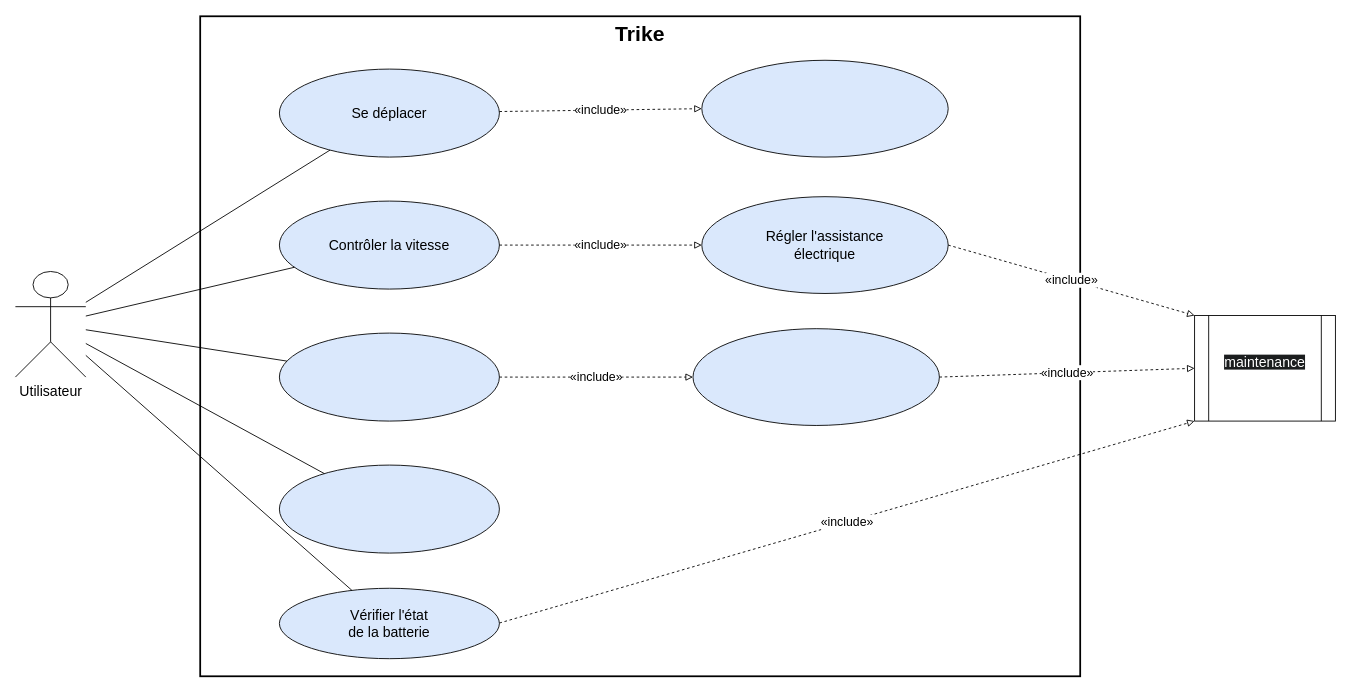
Image size: 1351x692. Some labels were removed from this diagram. Each missing label, with the box of its shape:
Allumer / Éteindre les lumières: (279, 464, 499, 553)
Changer de mode de conduite: (701, 59, 948, 157)
frein: (692, 328, 939, 425)
Freiner: (279, 332, 499, 421)
